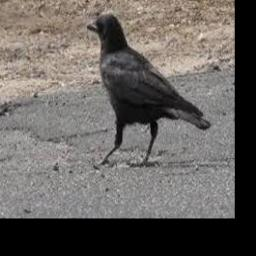Crow: (87, 13, 212, 169)
